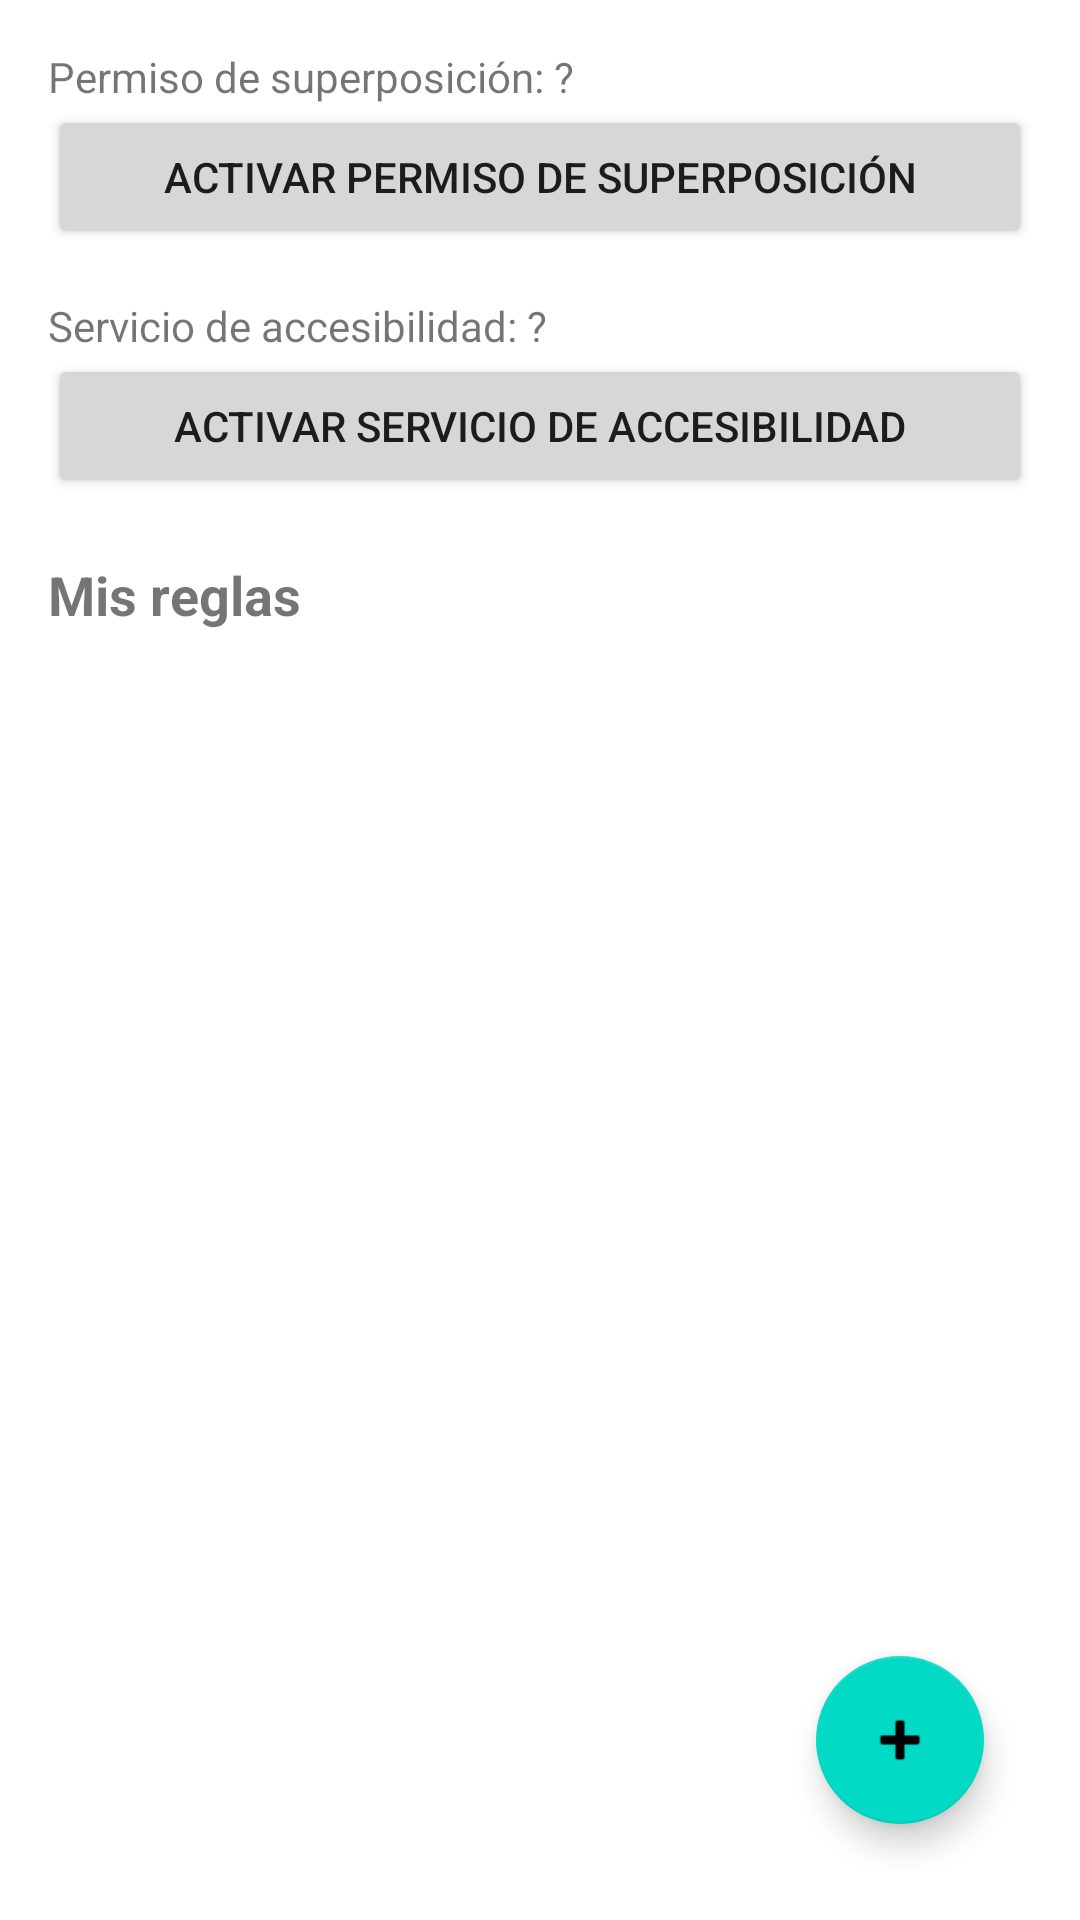

Where to tap for icons on this 1080 × 1920 app screen, as [x,y]:
Agregar regla: [900,1740]
